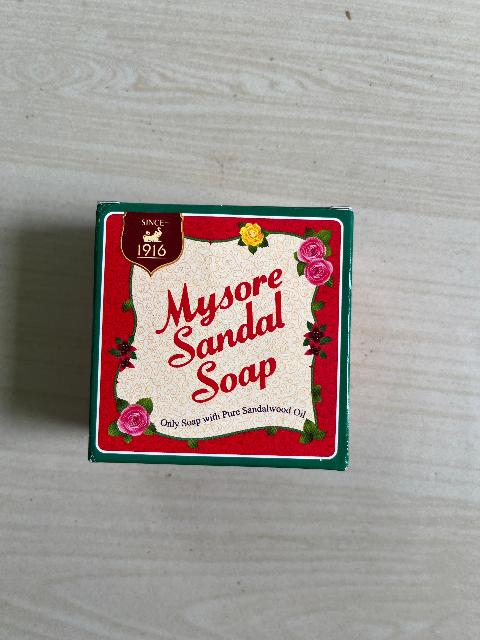mysore sandal soap: (95, 208, 353, 470)
